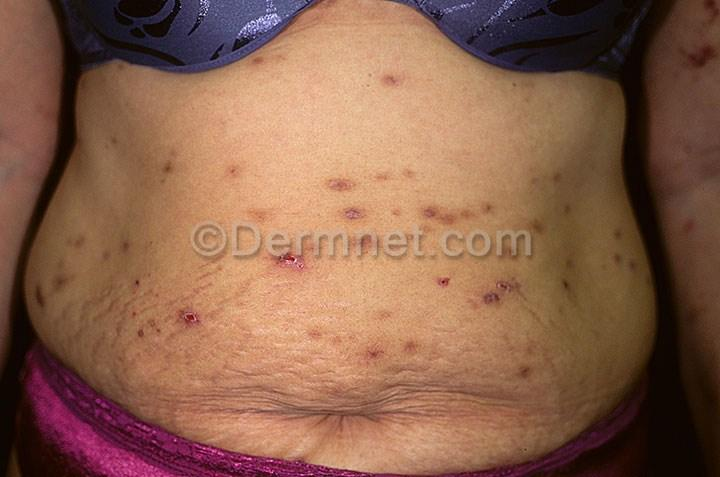Eczema: (109, 268, 240, 360), (408, 178, 521, 234), (308, 158, 392, 232), (325, 318, 434, 373), (476, 270, 535, 314), (212, 153, 271, 192), (266, 244, 327, 280), (147, 144, 195, 189), (370, 63, 413, 103), (420, 262, 465, 296)
